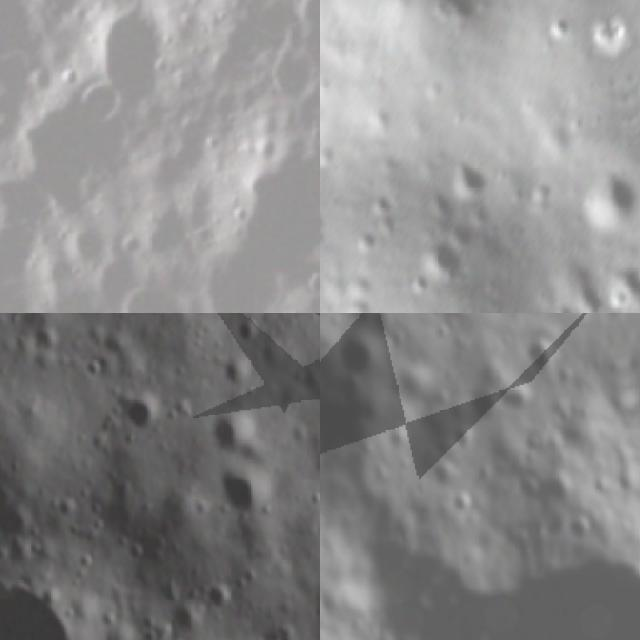crater: (481, 531, 640, 640), (12, 100, 132, 205), (96, 3, 164, 102), (0, 570, 94, 640), (567, 162, 640, 237), (138, 203, 199, 265), (412, 230, 474, 286), (0, 173, 60, 230), (265, 47, 317, 111), (443, 147, 500, 205), (329, 328, 390, 382), (212, 467, 276, 518), (104, 280, 200, 313), (80, 71, 128, 134), (459, 380, 505, 437), (65, 223, 119, 270), (515, 332, 563, 382), (603, 249, 640, 313), (112, 388, 159, 437), (534, 469, 580, 518), (552, 510, 601, 555), (491, 380, 536, 428), (0, 0, 34, 63), (419, 454, 468, 497), (212, 408, 252, 460), (438, 483, 484, 525), (506, 468, 548, 509), (328, 313, 399, 337), (544, 9, 579, 44), (234, 319, 268, 352), (305, 268, 320, 308)
